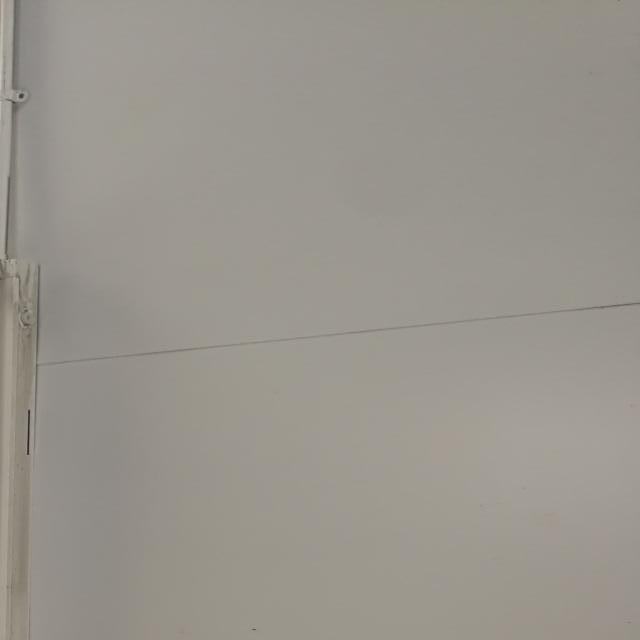fluorescent tube: (1, 251, 36, 640)
